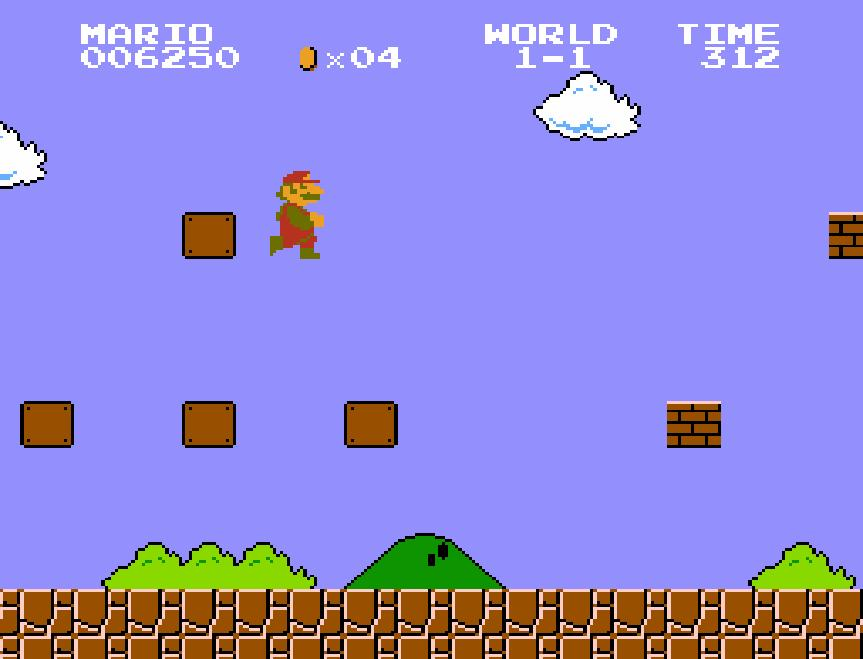big_mario: (267, 162, 325, 260)
